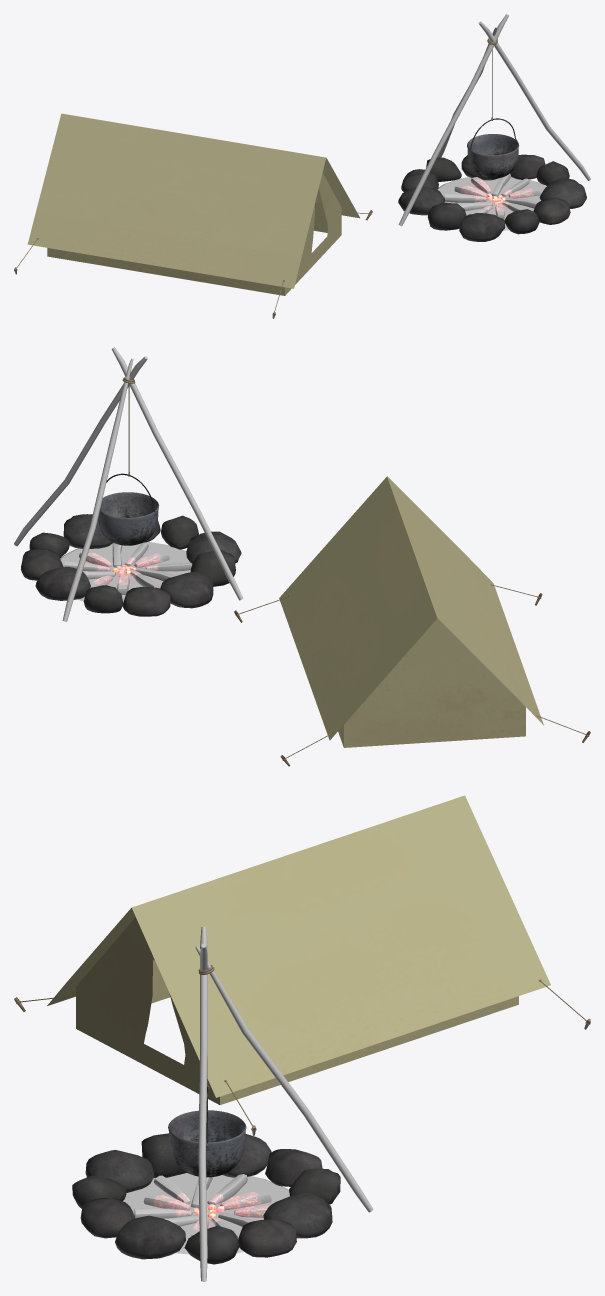
File: campfire.fbx
3 views of the same model, one above another, from view 1: azimuth 30°, elevation 25°; view 2: azimuth 150°, elevation 25°; view 3: azimuth 270°, elevation 25° (orthographic). The views are drawn at different scales.
Parts seen in each view (by area): view 1: camp, Rocks, woods_and_ground, utensil_and_rope; view 2: camp, Rocks, woods_and_ground, utensil_and_rope; view 3: camp, Rocks, woods_and_ground, utensil_and_rope.
Boxes of the visible parts, x1,y1,x2,y2 form: camp: (27, 113, 359, 295); Rocks: (398, 154, 586, 241); woods_and_ground: (398, 14, 590, 230); utensil_and_rope: (467, 38, 519, 178); camp: (279, 476, 543, 747); Rocks: (21, 514, 241, 616); woods_and_ground: (14, 347, 243, 621); utensil_and_rope: (98, 377, 159, 545); camp: (47, 795, 550, 1104); Rocks: (72, 1133, 340, 1264); woods_and_ground: (123, 927, 373, 1281); utensil_and_rope: (168, 965, 246, 1177).
Size of what is drawn, in the model's own units: 67.85 by 23.37 by 42.77.
